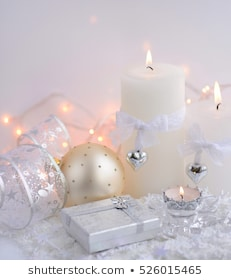Fire: (213, 80, 223, 105), (143, 49, 155, 67), (177, 185, 187, 198)
